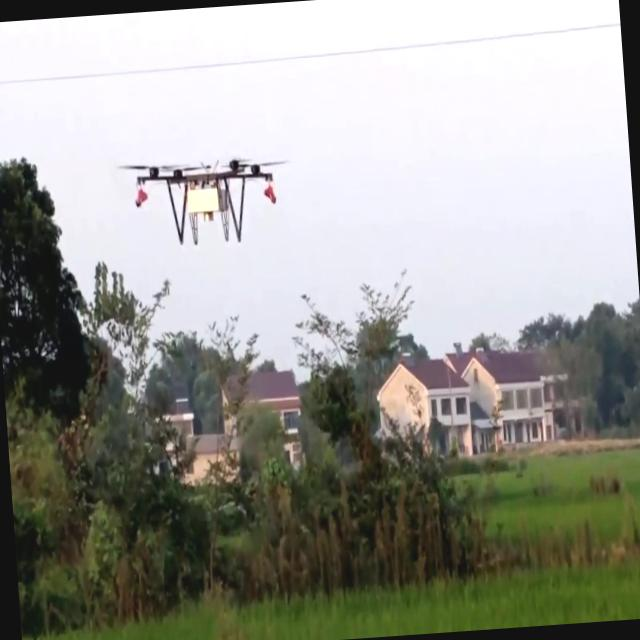drone: (120, 149, 296, 256)
